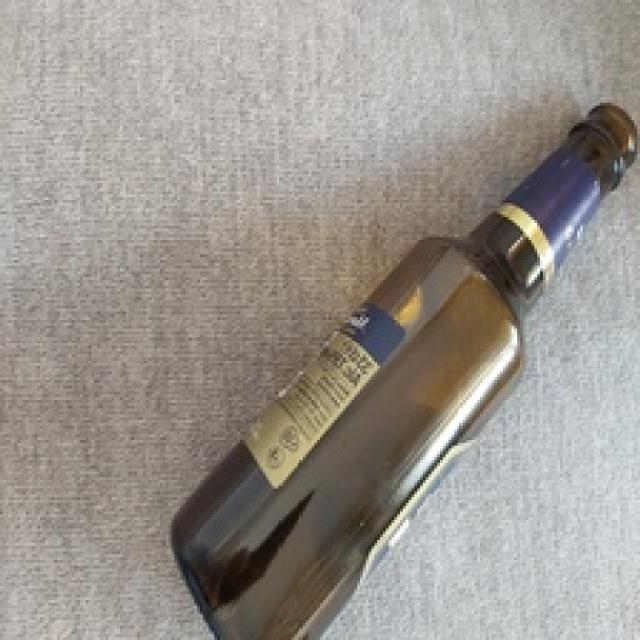glass: (169, 97, 640, 637)
